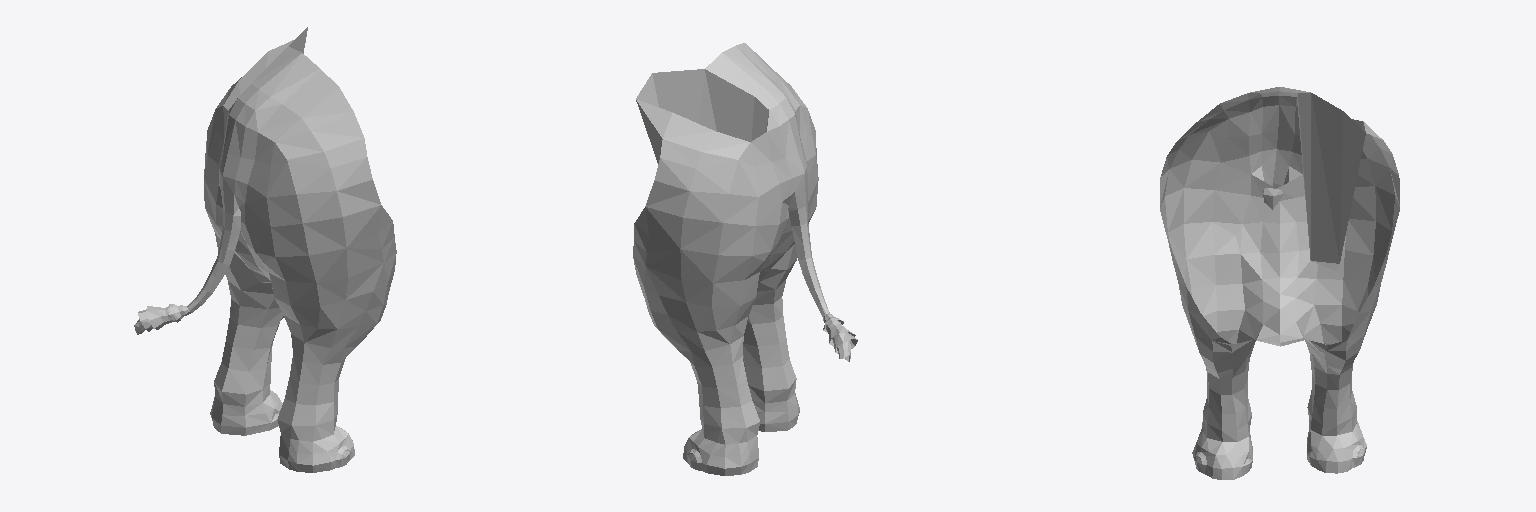
File: patastras.obj
3 renders of one model, left to right at view 1: azimuth 30°, elevation 25°; view 2: azimuth 150°, elevation 25°; view 3: azimuth 270°, elevation 25°, orthographic.
Parts seen in each view (by area): view 1: patastras; view 2: patastras; view 3: patastras.
Boxes of the visible parts, box(x1,y1,x2,y2) form: patastras: box(134, 27, 396, 472); patastras: box(633, 43, 857, 475); patastras: box(1160, 87, 1399, 479).
Size of the model in its own units: 16.78 by 29.87 by 16.98.